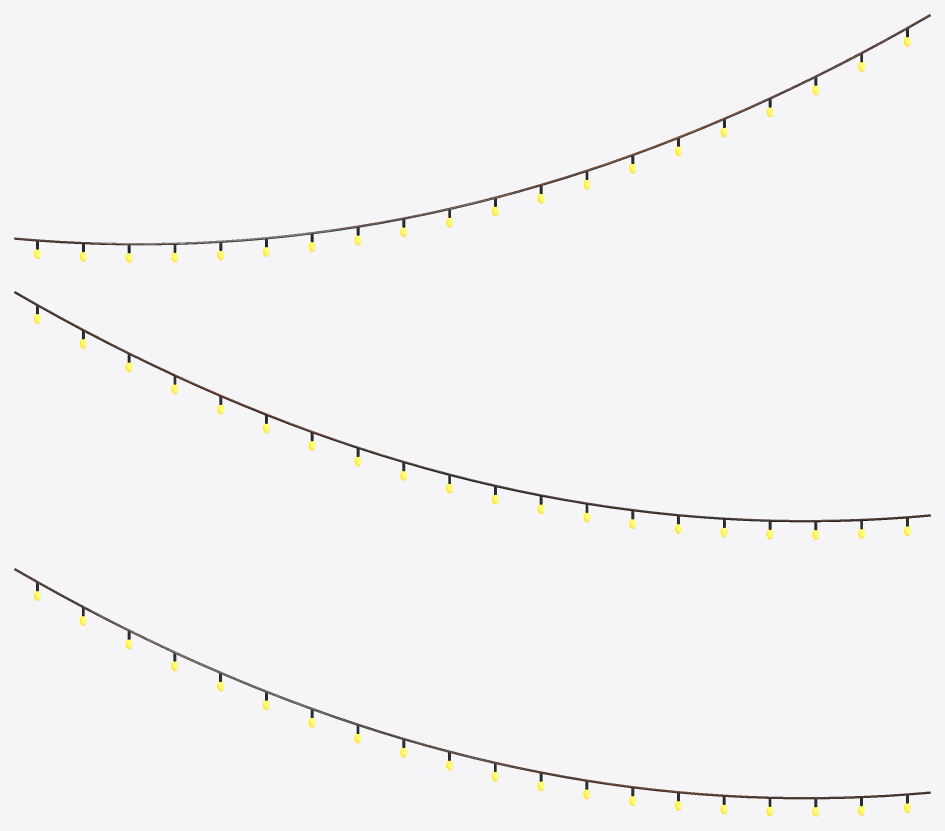
The model's file is prop_string_lights.glb.
3 views of the same model, one above another, from view 1: azimuth 30°, elevation 25°; view 2: azimuth 150°, elevation 25°; view 3: azimuth 330°, elevation 25° (orthographic).
Parts seen in each view (by area): view 1: prop_string_lights; view 2: prop_string_lights; view 3: prop_string_lights.
Boxes of the visible parts, x1,y1,x2,y2 form: prop_string_lights: (14,14,930,262); prop_string_lights: (14,291,930,539); prop_string_lights: (14,568,930,816).
Bounding box in the file's own units: 5 × 0.5023 × 0.0342.
3 materials, 2 textured.
